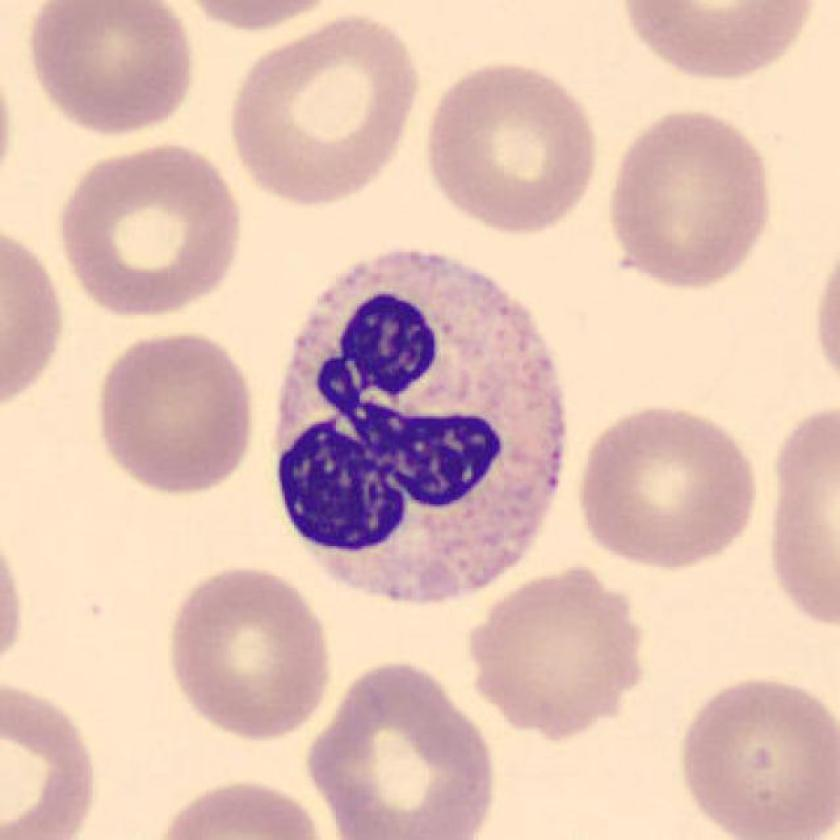neutrophil: (275, 252, 563, 604)
